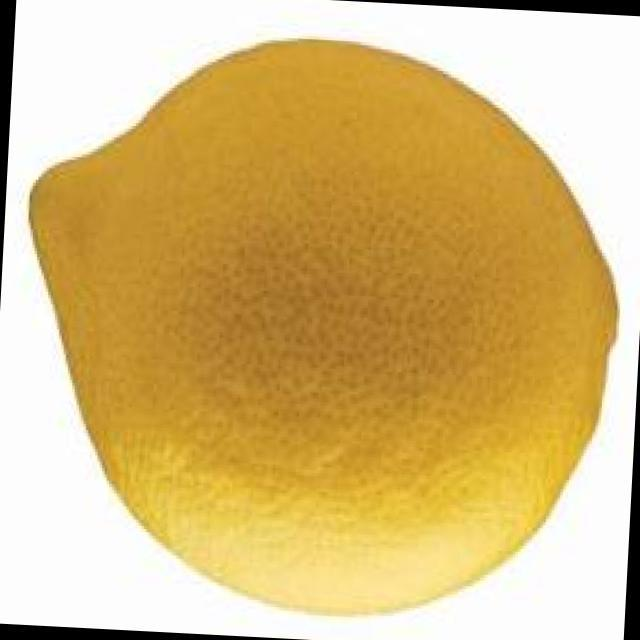Lemon: (0, 12, 640, 640)
